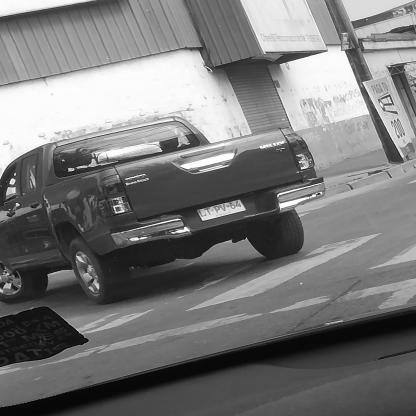Patente: (194, 198, 248, 223)
